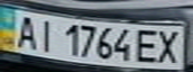1: (57, 20, 81, 56)
4: (112, 26, 136, 62)
6: (93, 25, 115, 61)
7: (75, 22, 96, 58)
A: (12, 12, 42, 50)
E: (133, 26, 163, 64)
I: (33, 17, 60, 53)
X: (154, 27, 184, 65)
